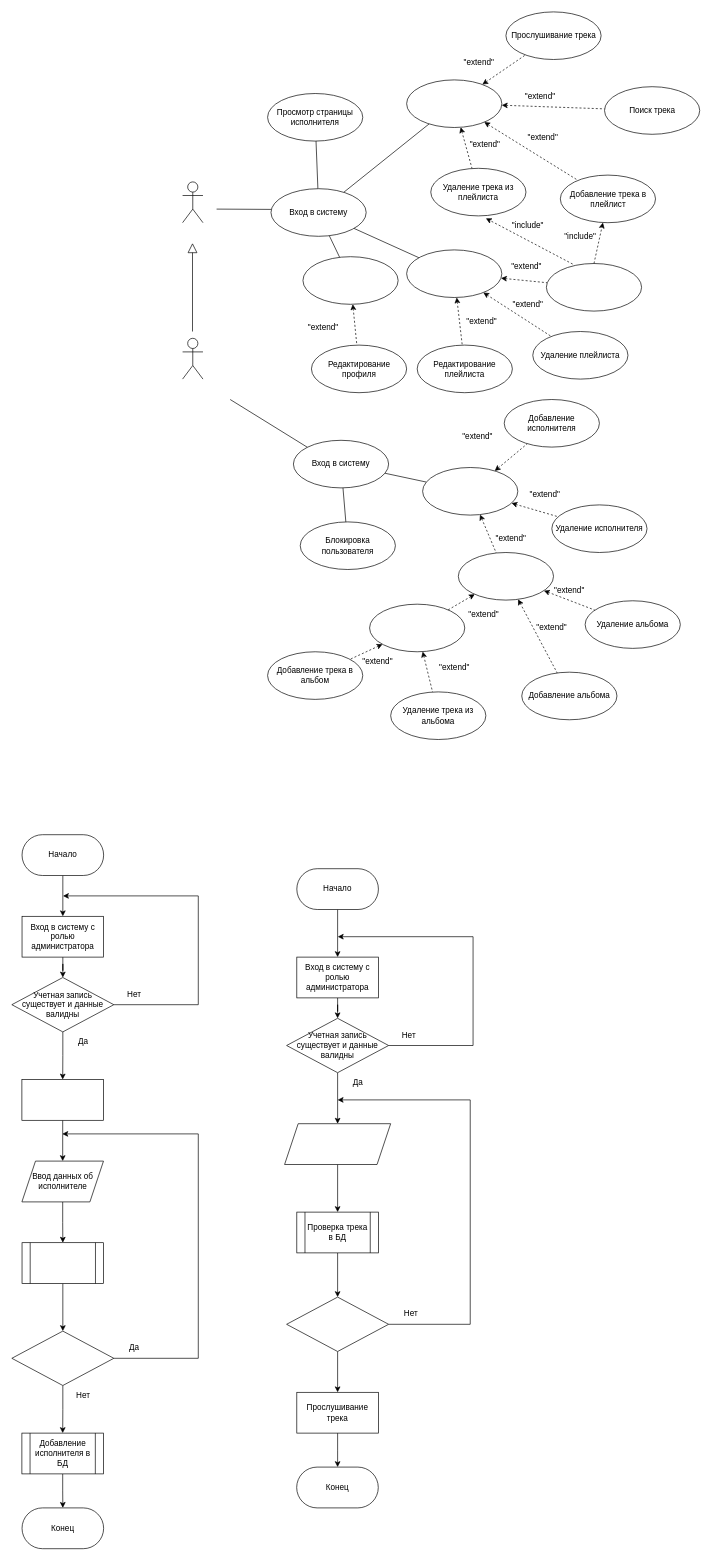
The diagram is 712 pixels wide and 1561 high, and some of its shapes have lost their labels. The shapes that lost their labels are listed below. From the top down, each one's box as (x1, y1, x2, y2) in pixels, then its label:
(406, 79, 502, 128): Управление треками
(182, 181, 203, 223): Пользователь
(302, 256, 398, 304): Просмотр профиля
(406, 249, 502, 298): Управление плейлистами
(546, 263, 642, 311): Создание плейлиста
(182, 338, 203, 379): Администратор
(422, 467, 518, 515): Управление исполнителями
(458, 552, 554, 600): Управление альбомами исполнителя
(369, 604, 465, 652): Управление треками в альбоме
(21, 1079, 103, 1120): Выбор опции "Добавить исполнителя"
(284, 1123, 391, 1164): Ввод названия трека в поисковую строку
(21, 1242, 104, 1284): Проверка исполнителя в БД
(286, 1296, 389, 1352): Такой трек существует?
(11, 1330, 114, 1386): Такой исполнитель существует?
